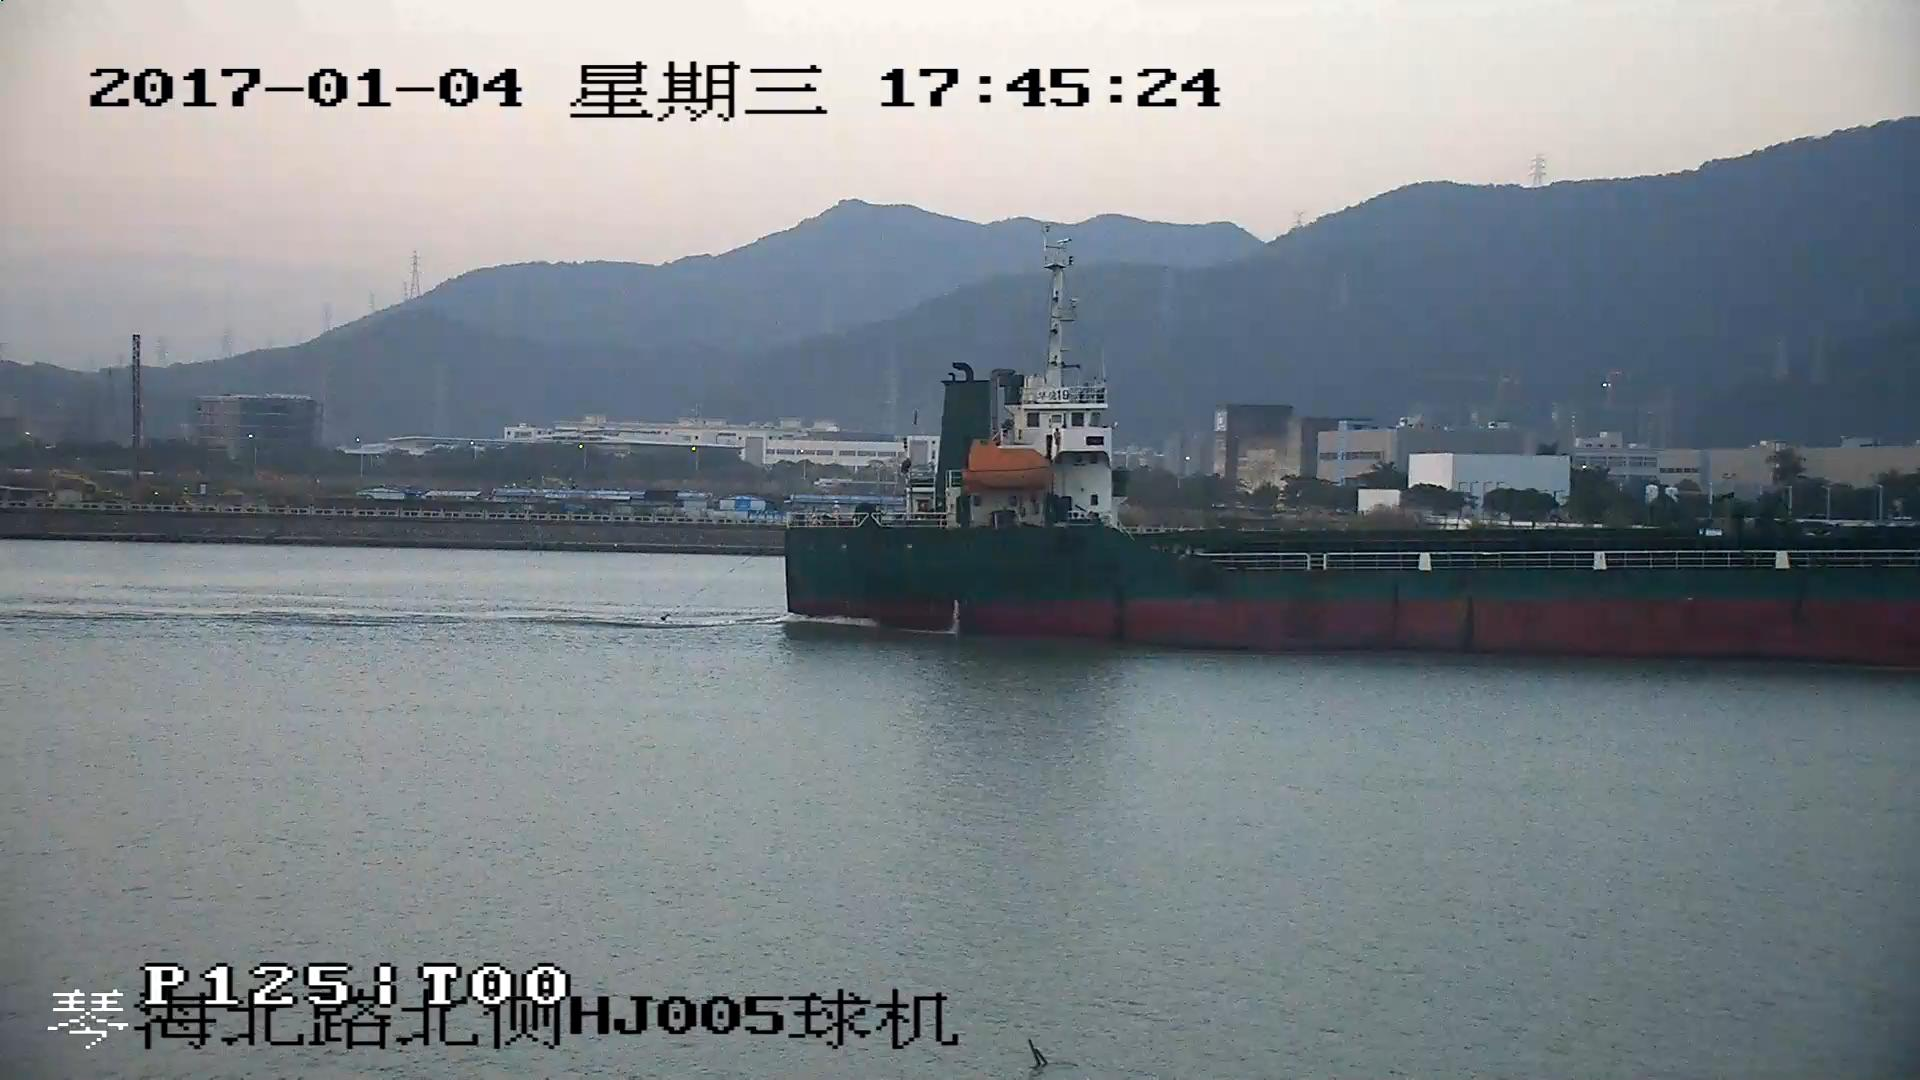general cargo ship: (785, 233, 1920, 662)
